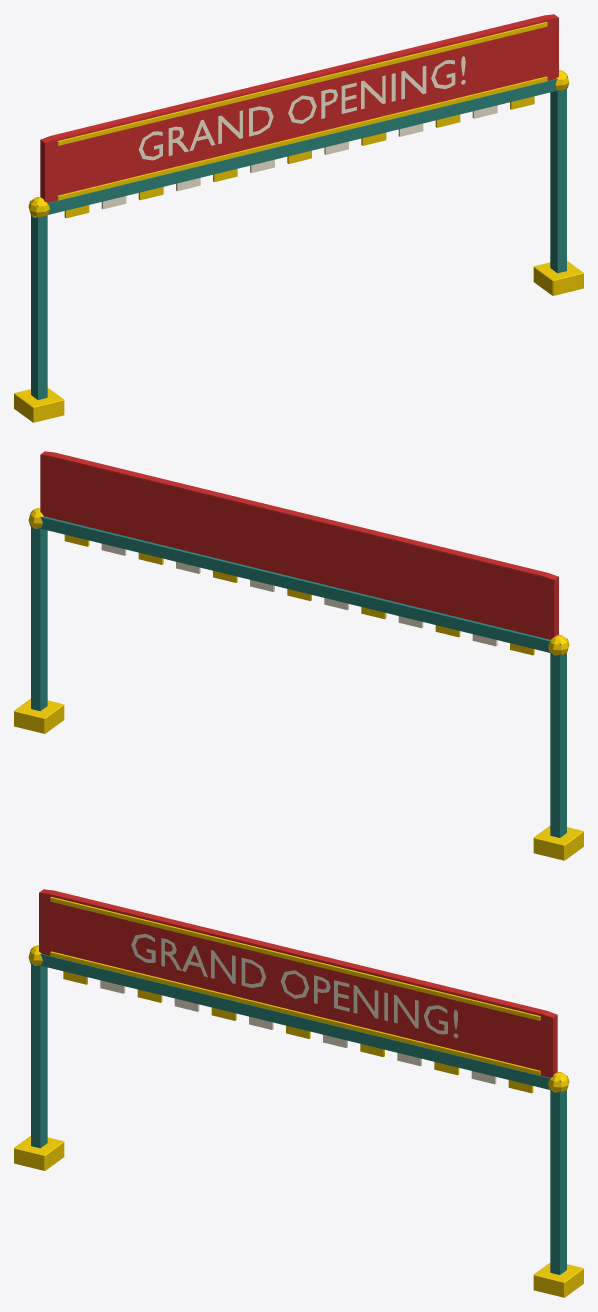
Rendered from grand_opening_banner.glb.
3 renders of one model, top to bottom at view 1: azimuth 30°, elevation 25°; view 2: azimuth 150°, elevation 25°; view 3: azimuth 330°, elevation 25°, orthographic.
Parts seen in each view (by area): view 1: Grand opening banner panel, Banner top rail, Sign GRAND OPENING!, Banner support post, Banner support post.001, Banner bottom gold trim, Banner top gold trim, Banner support foot, Banner support foot.001; view 2: Grand opening banner panel, Banner top rail, Banner support post, Banner support post.001, Banner support foot, Banner support foot.001; view 3: Grand opening banner panel, Banner top rail, Sign GRAND OPENING!, Banner support post.001, Banner support post, Banner bottom gold trim, Banner top gold trim, Banner support foot, Banner support foot.001.
Boxes of the visible parts, x1=… form: Grand opening banner panel: x1=40, y1=14, x2=558, y2=202; Banner top rail: x1=30, y1=76, x2=567, y2=217; Sign GRAND OPENING!: x1=138, y1=56, x2=465, y2=160; Banner support post: x1=31, y1=215, x2=47, y2=399; Banner support post.001: x1=550, y1=88, x2=566, y2=273; Banner bottom gold trim: x1=57, y1=76, x2=547, y2=200; Banner top gold trim: x1=57, y1=22, x2=547, y2=145; Banner support foot: x1=14, y1=388, x2=64, y2=422; Banner support foot.001: x1=533, y1=261, x2=583, y2=295; Grand opening banner panel: x1=40, y1=451, x2=558, y2=639; Banner top rail: x1=30, y1=514, x2=567, y2=655; Banner support post: x1=550, y1=652, x2=566, y2=837; Banner support post.001: x1=31, y1=526, x2=47, y2=711; Banner support foot: x1=533, y1=826, x2=583, y2=860; Banner support foot.001: x1=14, y1=699, x2=64, y2=733; Grand opening banner panel: x1=39, y1=889, x2=557, y2=1077; Banner top rail: x1=30, y1=951, x2=567, y2=1092; Sign GRAND OPENING!: x1=131, y1=933, x2=458, y2=1037; Banner support post.001: x1=550, y1=1090, x2=566, y2=1274; Banner support post: x1=31, y1=963, x2=47, y2=1148; Banner bottom gold trim: x1=50, y1=951, x2=540, y2=1075; Banner top gold trim: x1=50, y1=897, x2=540, y2=1020; Banner support foot: x1=14, y1=1136, x2=64, y2=1170; Banner support foot.001: x1=533, y1=1263, x2=583, y2=1297.
Bounding box in the file's own units: 8.02 × 3.78 × 0.5.
